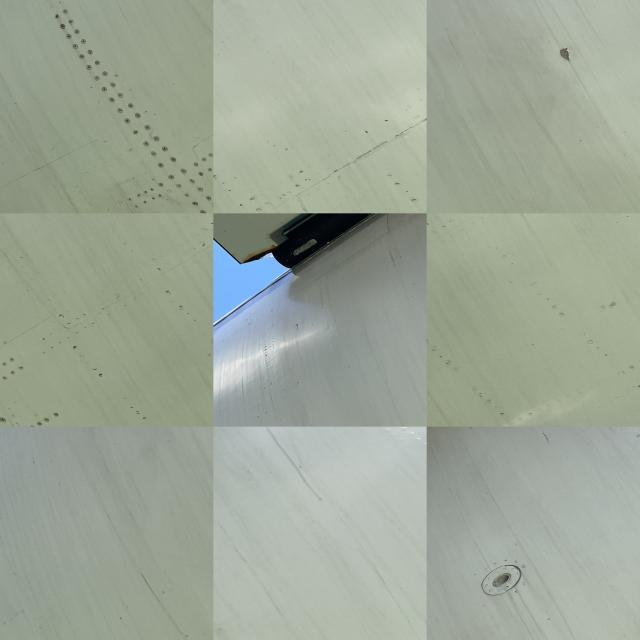crack: (140, 573, 162, 598), (556, 47, 584, 66)
